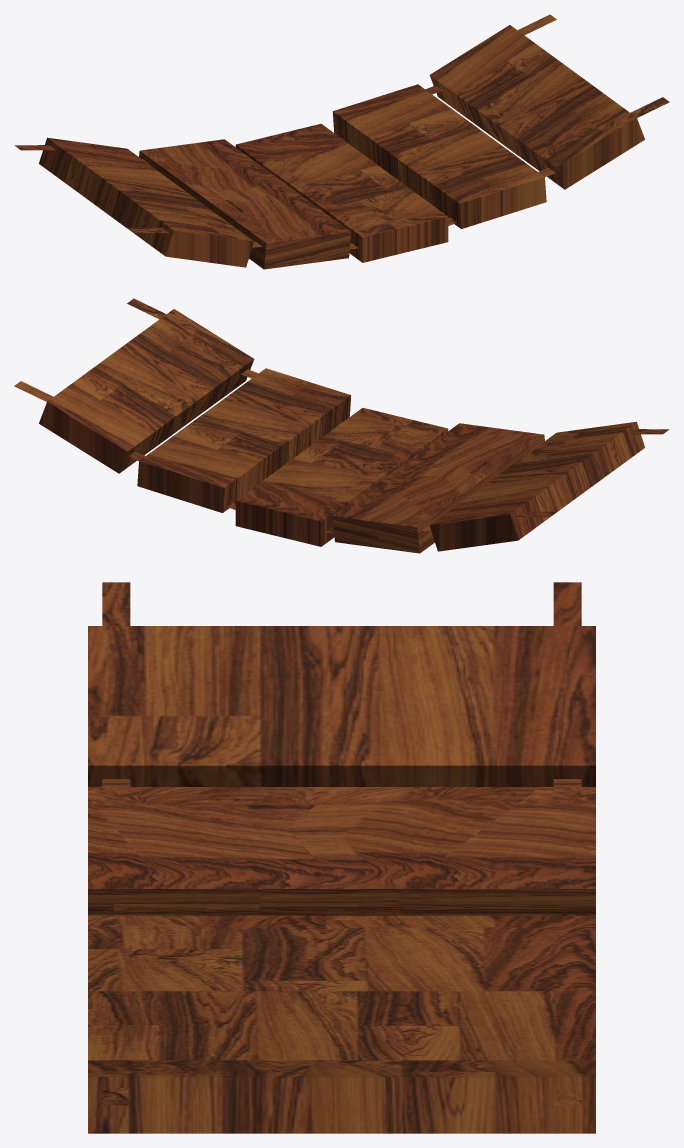
Rendered from Bridge.fbx.
3 views of the same model, one above another, from view 1: azimuth 30°, elevation 25°; view 2: azimuth 150°, elevation 25°; view 3: azimuth 270°, elevation 25° (orthographic). The views are drawn at different scales.
Parts seen in each view (by area): view 1: plank1, plank2, plank3, plank4, plank5; view 2: plank1, plank2, plank3, plank4, plank5; view 3: plank5, plank4, plank3, plank1, plank2.
Boxes of the visible parts, left/top/right/bottom form: plank1: left=429, top=14, right=669, bottom=189; plank2: left=332, top=84, right=555, bottom=228; plank3: left=235, top=124, right=457, bottom=262; plank4: left=139, top=139, right=351, bottom=269; plank5: left=14, top=137, right=254, bottom=267; plank1: left=14, top=298, right=254, bottom=473; plank2: left=128, top=368, right=351, bottom=512; plank3: left=226, top=408, right=448, bottom=546; plank4: left=332, top=423, right=544, bottom=553; plank5: left=429, top=421, right=669, bottom=551; plank5: left=88, top=582, right=595, bottom=786; plank4: left=88, top=779, right=595, bottom=915; plank3: left=88, top=915, right=595, bottom=991; plank1: left=88, top=1060, right=595, bottom=1133; plank2: left=88, top=991, right=595, bottom=1060.
Size of the model in its own units: 219 by 32.24 by 90.
